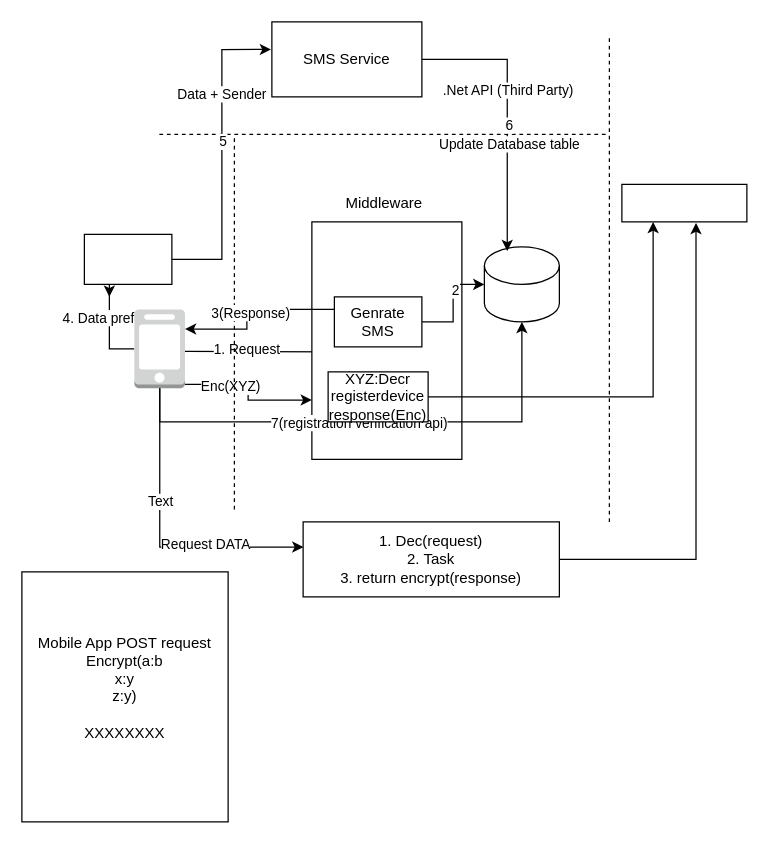
This 769x844 diagram has some shape labels left out. Each missing label, with the centre of its shape:
"IndusDirectSSO" belongs at (684,202).
"SMS Composer With Data" belongs at (127,258).
